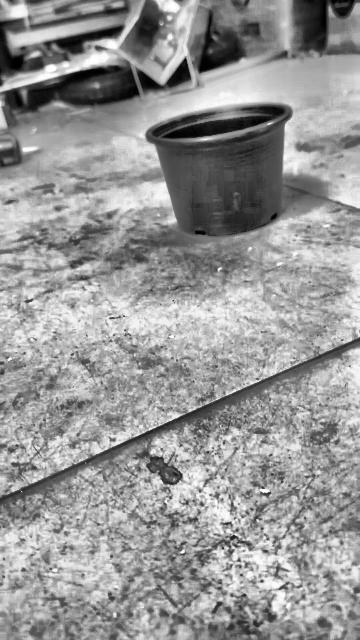pot: (147, 101, 293, 237)
